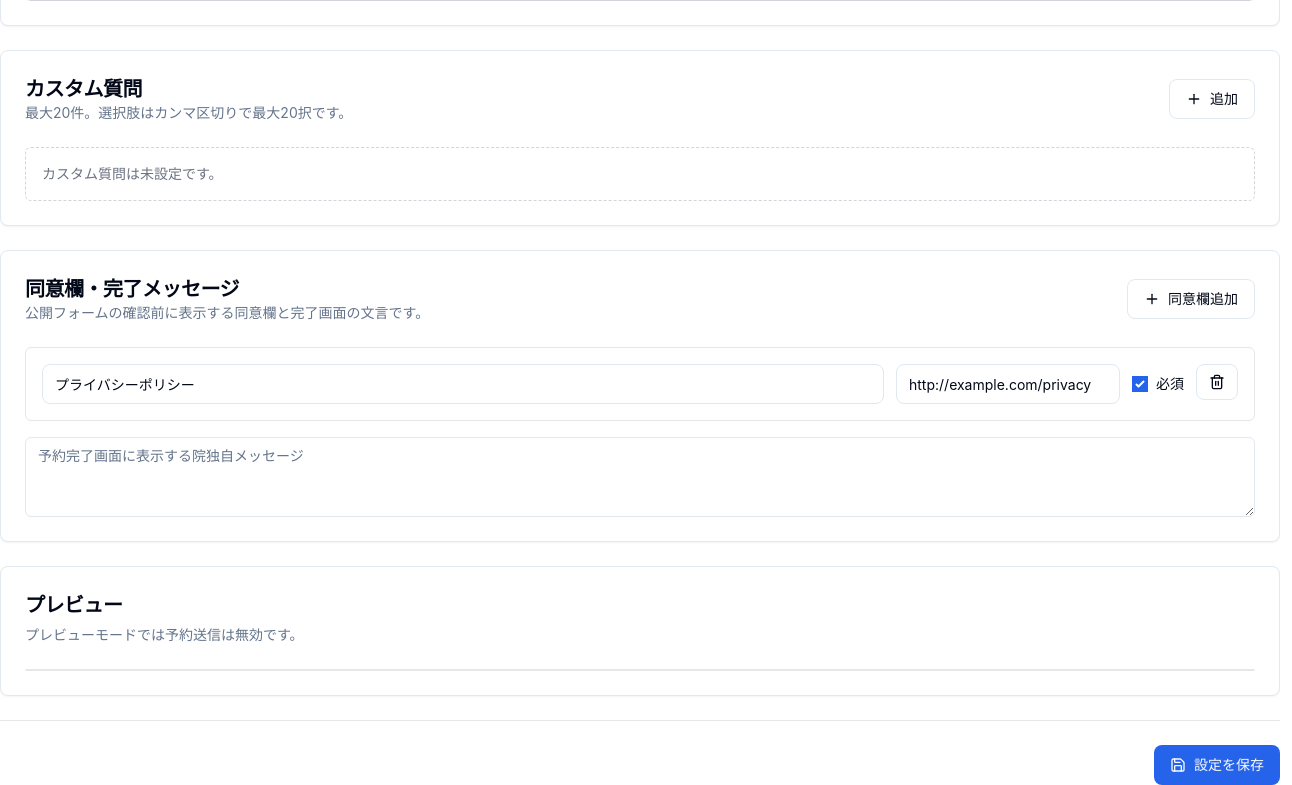
BookingFormSettings › http同意URLを含む場合は対象同意欄を示して保存しない
(page scrolled)
Click the button "設定を保存" at (1217, 765), box [1154, 745, 1280, 784]
(page scrolled)
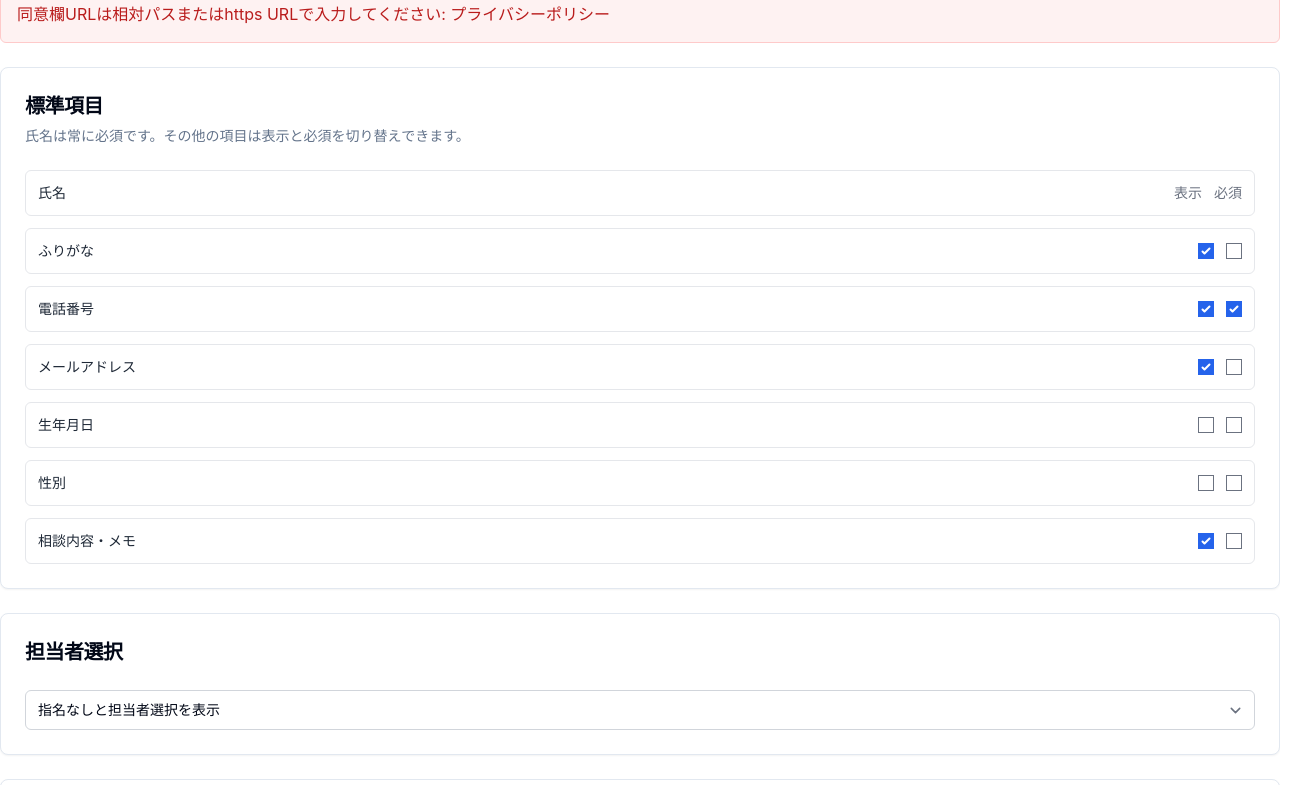
Expected: the text with test id "error-message" reads "同意欄URLは相対パスまたはhttps URLで入力してください: プライバシーポリシー", [17, 4, 610, 24]
